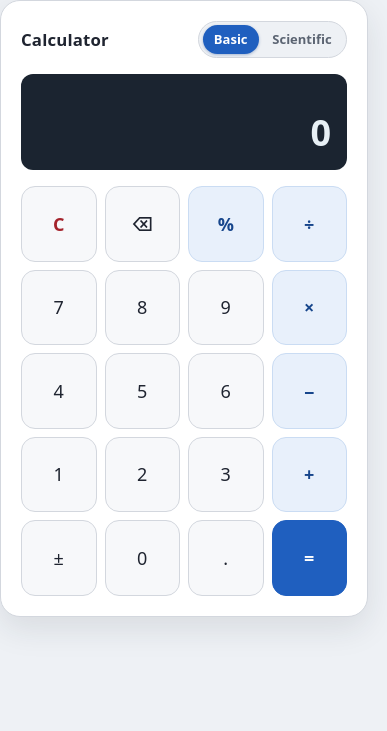
Calculator calculations › applies square root immediately
Click the button "Scientific" at (302, 40), box 261,25 -> 343,54
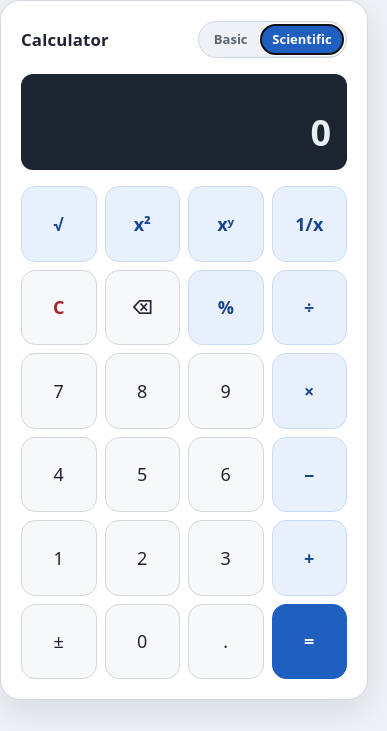
Click the button "2" at (142, 558), box 104,520 -> 180,596
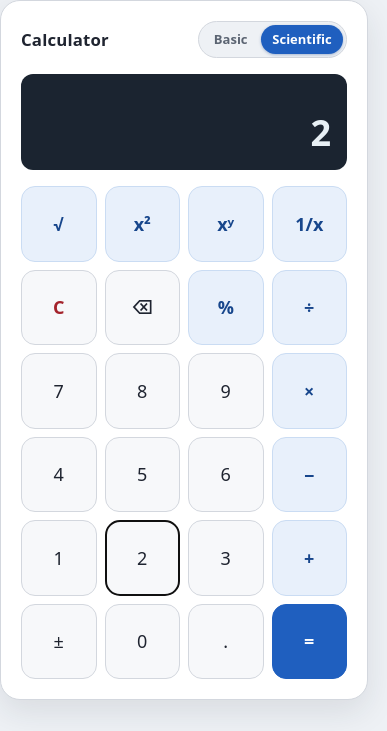
Click the button "5" at (142, 475), box 104,437 -> 180,512
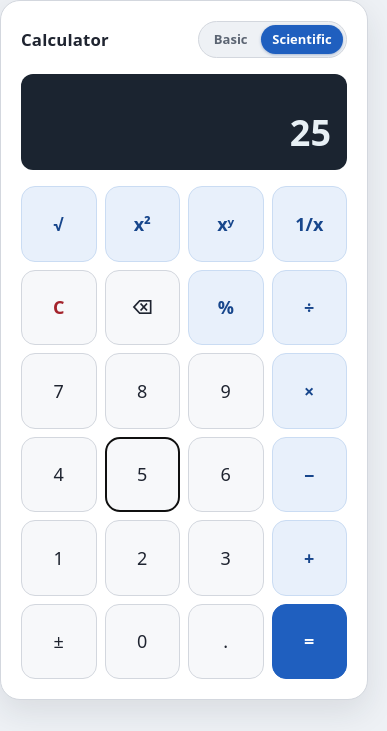
Click the button named "Square root" at (59, 224), box 21,186 -> 96,262
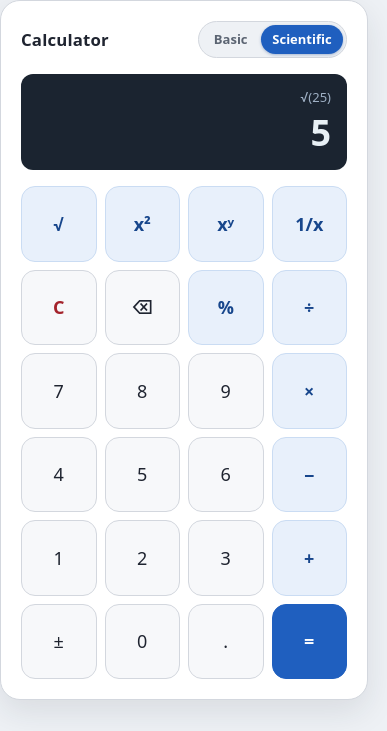
Check: the text "5" is shown, box 310,112 -> 331,154
Check: the text with test id "expression" reads "√(25)", box 300,88 -> 331,106
